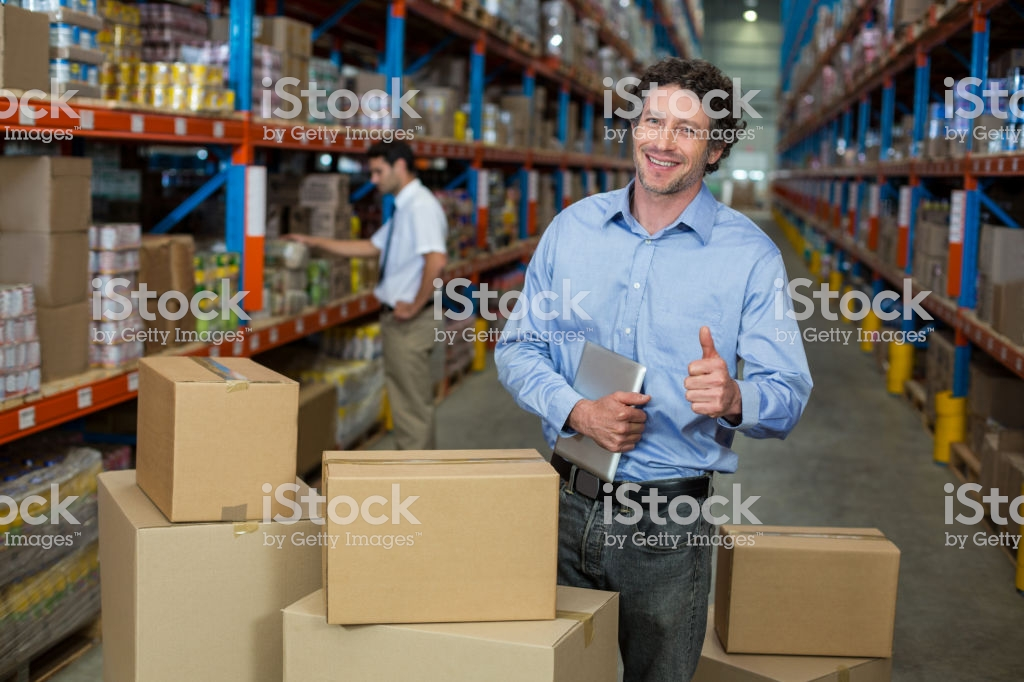thumbsup: (680, 325, 732, 423)
